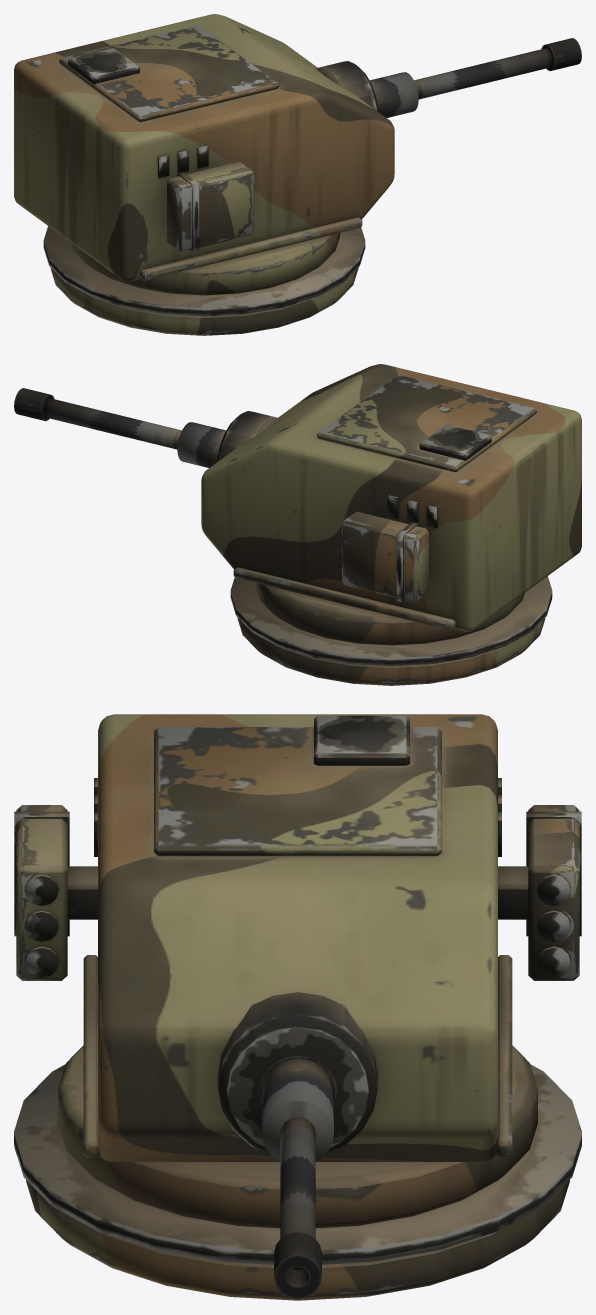
File: turret_grach_t1_steppe.glb
3 renders of one model, top to bottom at view 1: azimuth 30°, elevation 25°; view 2: azimuth 150°, elevation 25°; view 3: azimuth 270°, elevation 25°, orthographic. The views are drawn at different scales.
Visible parts, largest first — view 1: turret_light_t1, guns, pods; view 2: turret_light_t1, guns, pods; view 3: turret_light_t1, guns, pods.
Boxes of the visible parts, <box> form: turret_light_t1: <box>14,14,394,335</box>; guns: <box>316,38,581,117</box>; pods: <box>167,161,254,252</box>; turret_light_t1: <box>201,364,581,685</box>; guns: <box>14,388,279,467</box>; pods: <box>341,511,428,602</box>; turret_light_t1: <box>14,714,581,1300</box>; guns: <box>218,992,377,1298</box>; pods: <box>14,805,581,980</box>.
Bounding box in the file's own units: 1.14 × 0.4664 × 0.6248.
Materials: 3 (3 with a texture image).
